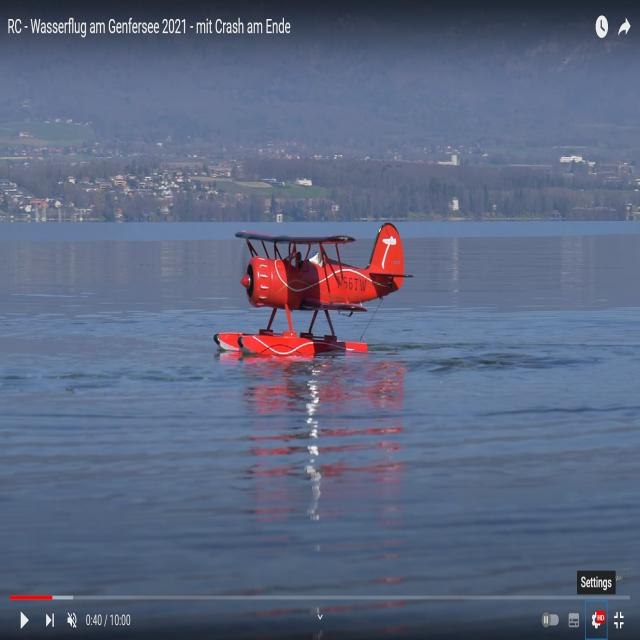iha: (214, 228, 410, 362)
